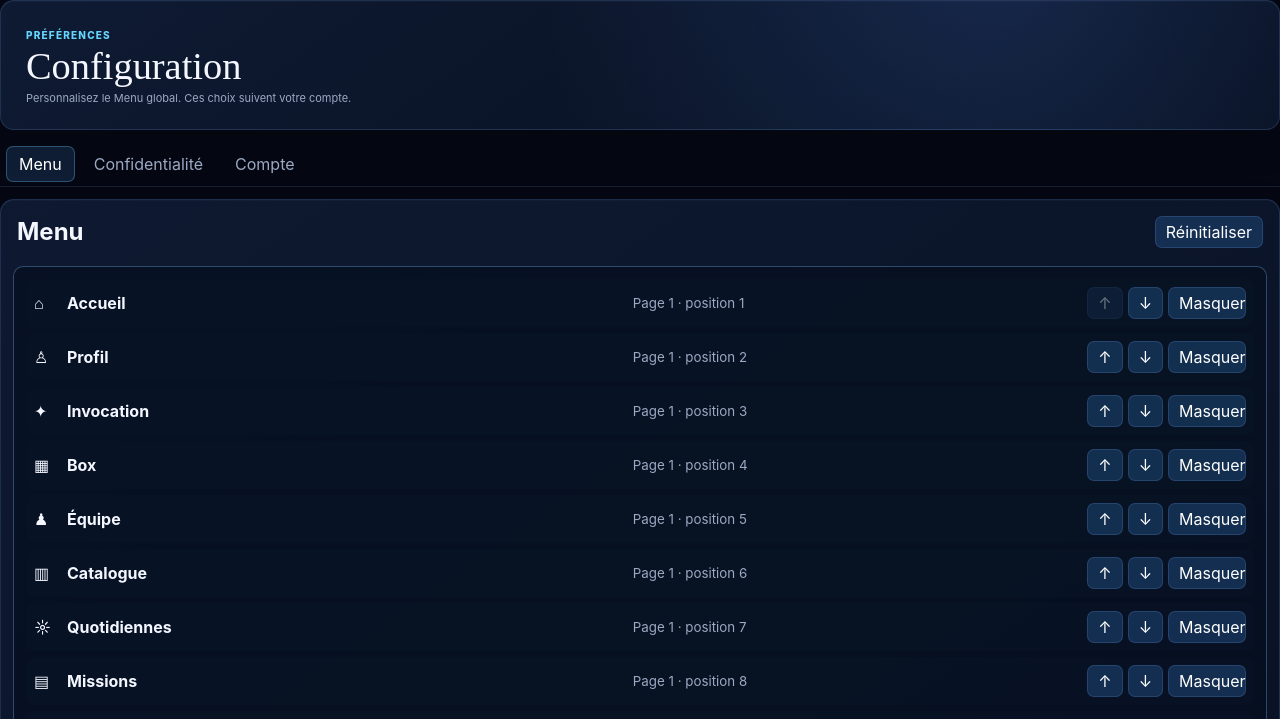
Test: Social UI › activates privacy, hides Appearance, persists confirmed values and reports errors
Check: the button "Menu" is shown, box [6, 146, 75, 182]
Click the button "Confidentialité": x=148, y=164 [81, 146, 216, 182]
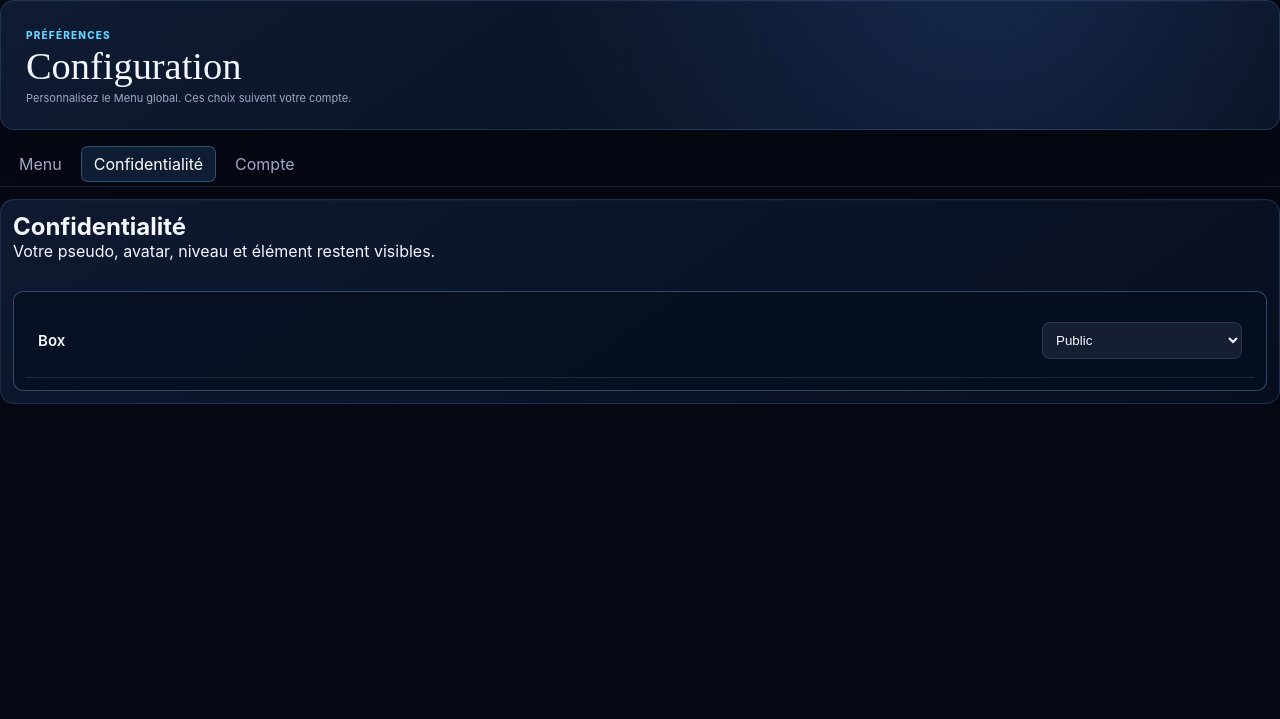
Select "Privé" in the dropdown labelled "Box": x=1142, y=340 [1042, 322, 1242, 359]
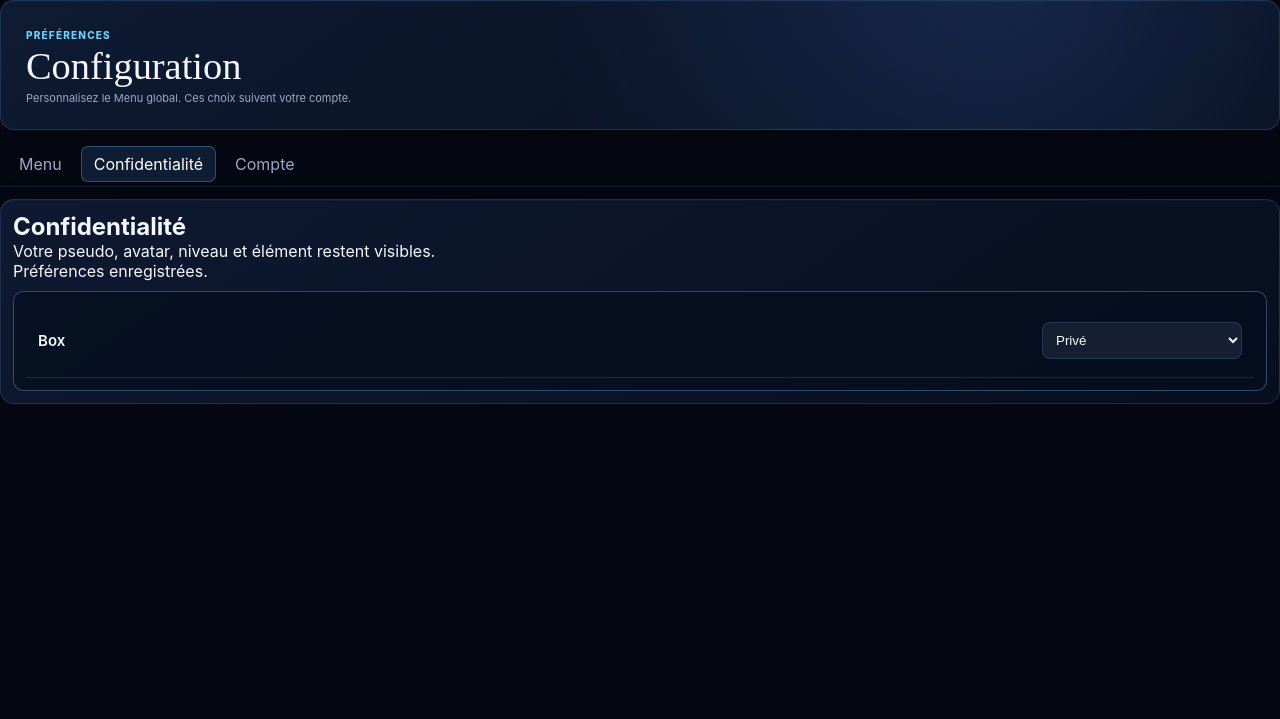
Check: the text "Préférences enregistrées." is shown, box [13, 261, 208, 281]
Select "Public" in the dropdown labelled "Box": x=1142, y=340 [1042, 322, 1242, 359]
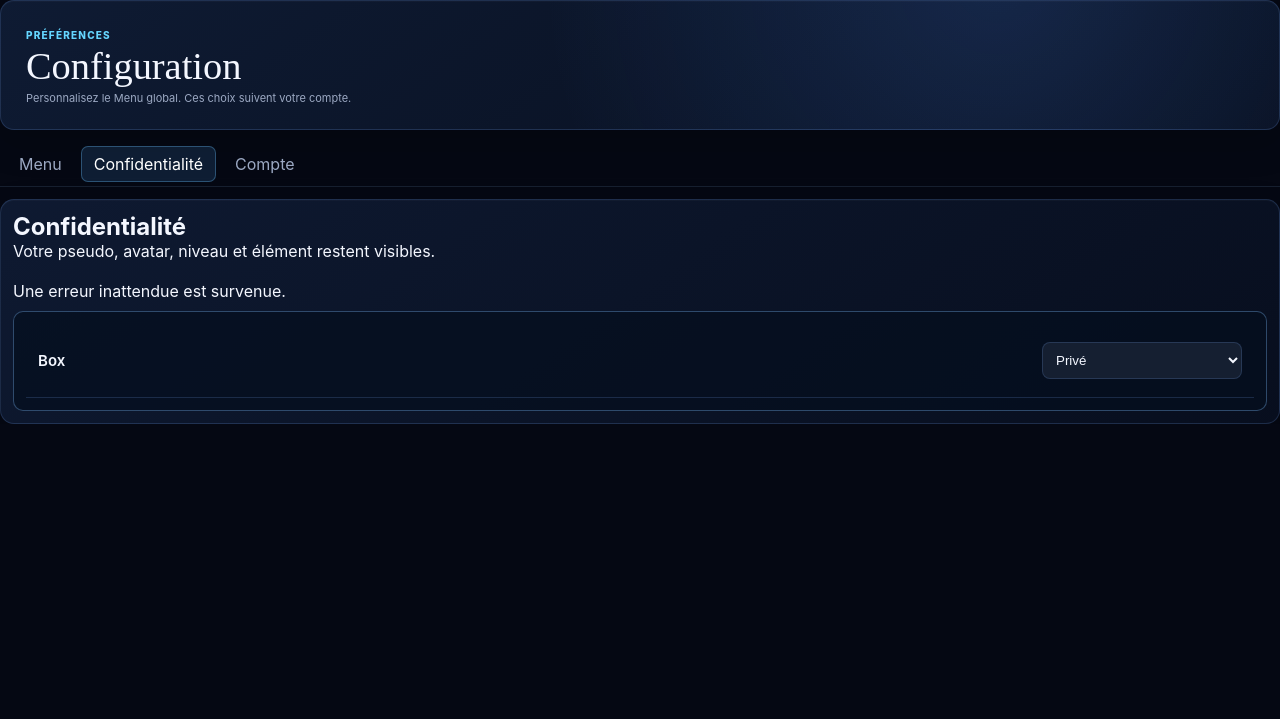
Check: the message "Une erreur inattendue est survenue." is shown, box [13, 281, 286, 301]
